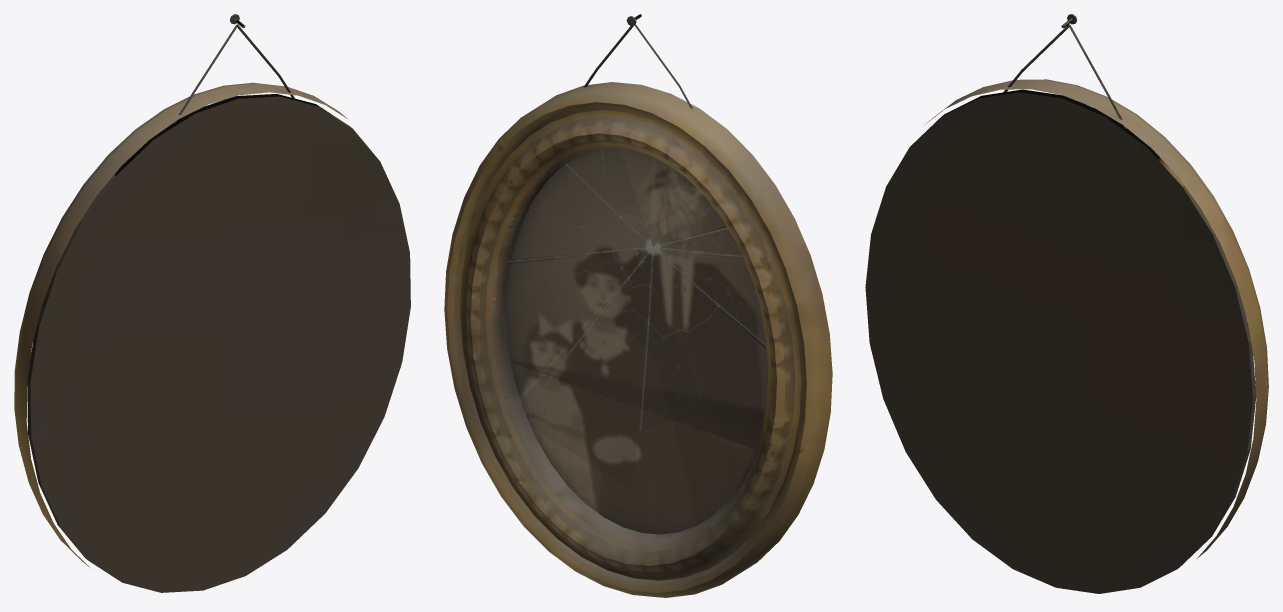
File: dressing_frame_portrait.glb
3 views of the same model, side by side, from view 1: azimuth 30°, elevation 25°; view 2: azimuth 150°, elevation 25°; view 3: azimuth 330°, elevation 25° (orthographic). The views are drawn at different scales.
Parts seen in each view (by area): view 1: dressing_frame_portrait; view 2: dressing_frame_portrait, dressing_frame_portrait_glass; view 3: dressing_frame_portrait.
Part boxes in pixels (bbox=[...]): dressing_frame_portrait: bbox=[14, 14, 410, 592]; dressing_frame_portrait: bbox=[444, 14, 832, 597]; dressing_frame_portrait_glass: bbox=[505, 149, 766, 481]; dressing_frame_portrait: bbox=[865, 14, 1268, 593].
Size of the model in its own units: 0.4096 by 0.5846 by 0.0674.
2 materials, 2 textured.
